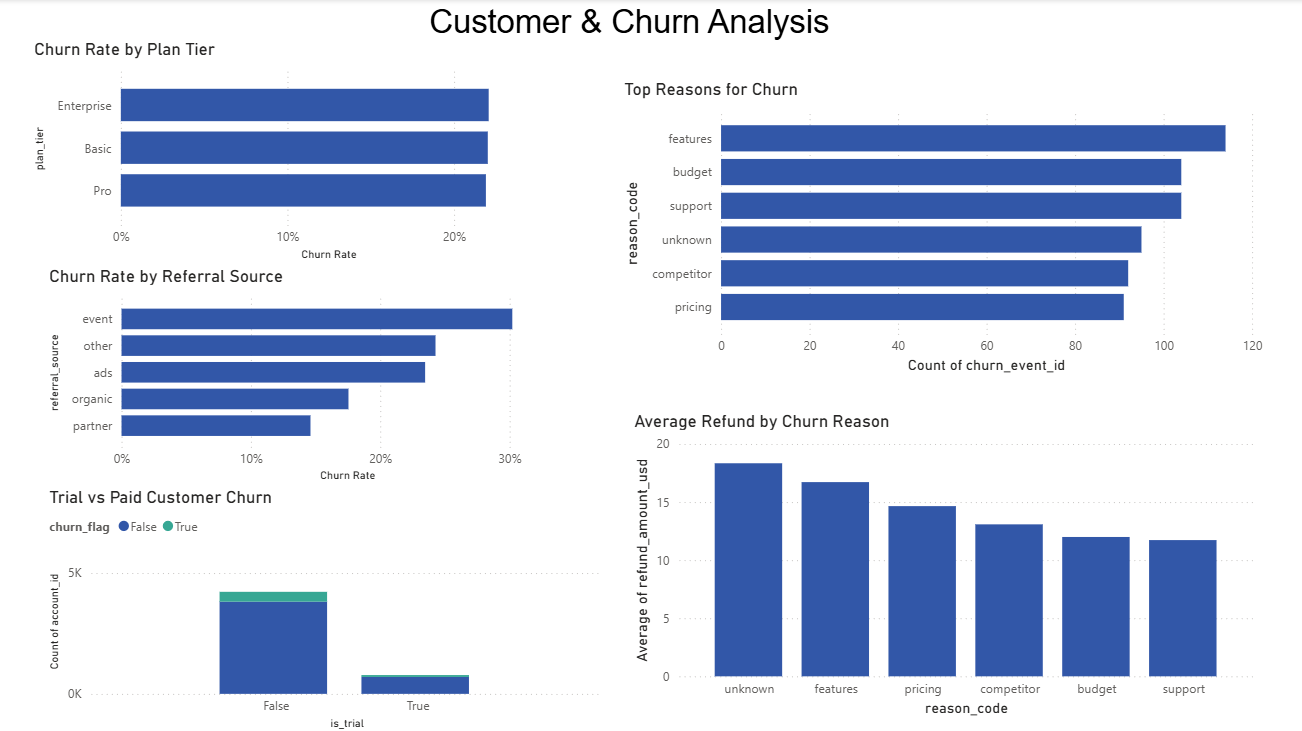

What the dashboard file says about the page in this screenshot:
{"tool":"powerbi","page":{"name":"Customer & Churn Analysis","canvas":[1280,720],"ordinal":1},"visuals":[{"type":"textbox","box":[417.1,0,445.7,52.9],"z":0},{"type":"clusteredBarChart","title":"Churn Rate by Plan Tier","fields":{"Category":["ravenstack_accounts.plan_tier"],"Y":["ravenstack_accounts.Churn Rate"]},"box":[30,38.6,514.3,221.4],"z":1000},{"type":"clusteredBarChart","title":"Churn Rate by Referral Source","fields":{"Y":["ravenstack_accounts.Churn Rate"],"Category":["ravenstack_accounts.referral_source"]},"box":[45.7,260,535.7,217.1],"z":2000},{"type":"clusteredBarChart","title":"Top Reasons for Churn","fields":{"Category":["ravenstack_churn_events.reason_code"],"Y":["CountNonNull(ravenstack_churn_events.churn_event_id)"]},"box":[607.1,78.6,634.3,292.9],"z":3000},{"type":"clusteredColumnChart","title":"Average Refund by Churn Reason","fields":{"Category":["ravenstack_churn_events.reason_code"],"Y":["Avg(ravenstack_churn_events.refund_amount_usd)"]},"box":[617.1,402.9,615.7,304.3],"z":4000},{"type":"columnChart","title":"Trial vs Paid Customer Churn","fields":{"Category":["ravenstack_subscriptions.is_trial"],"Y":["CountNonNull(ravenstack_subscriptions.account_id)"],"Series":["ravenstack_subscriptions.churn_flag"]},"box":[45.7,477.1,551.4,242.9],"z":5000}]}

Visuals, with their boxes in screenshot pixels (x1, y1, x2, y2), scaled from the page's 1280x720 canvas onto the 1302x731 screenshot:
textbox: bbox=(424, 0, 878, 54)
"Churn Rate by Plan Tier" clusteredBarChart: bbox=(31, 39, 554, 264)
"Churn Rate by Referral Source" clusteredBarChart: bbox=(46, 264, 591, 484)
"Top Reasons for Churn" clusteredBarChart: bbox=(618, 80, 1263, 377)
"Average Refund by Churn Reason" clusteredColumnChart: bbox=(628, 409, 1254, 718)
"Trial vs Paid Customer Churn" columnChart: bbox=(46, 484, 607, 730)
